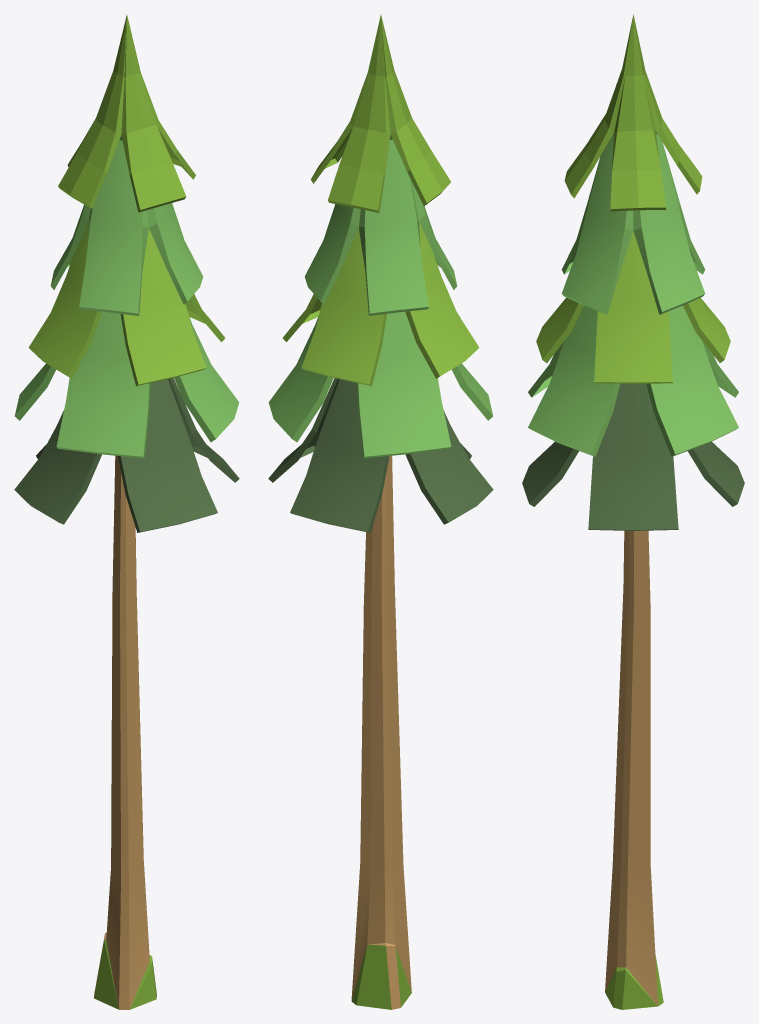
Rendered from model_polytope_fern02_large_02.fbx.
The picture shows the model from 3 angles, left to right: view 1: azimuth 30°, elevation 25°; view 2: azimuth 150°, elevation 25°; view 3: azimuth 270°, elevation 25°; orthographic projection.
Parts seen in each view (by area): view 1: model_polytope_fern02_large_02; view 2: model_polytope_fern02_large_02; view 3: model_polytope_fern02_large_02.
Part boxes in pixels (x1,y1,x2,y2): model_polytope_fern02_large_02: (14,15,239,1009); model_polytope_fern02_large_02: (268,15,493,1009); model_polytope_fern02_large_02: (522,14,744,1009).
Bounding box in the file's own units: 202 × 987 × 202.
